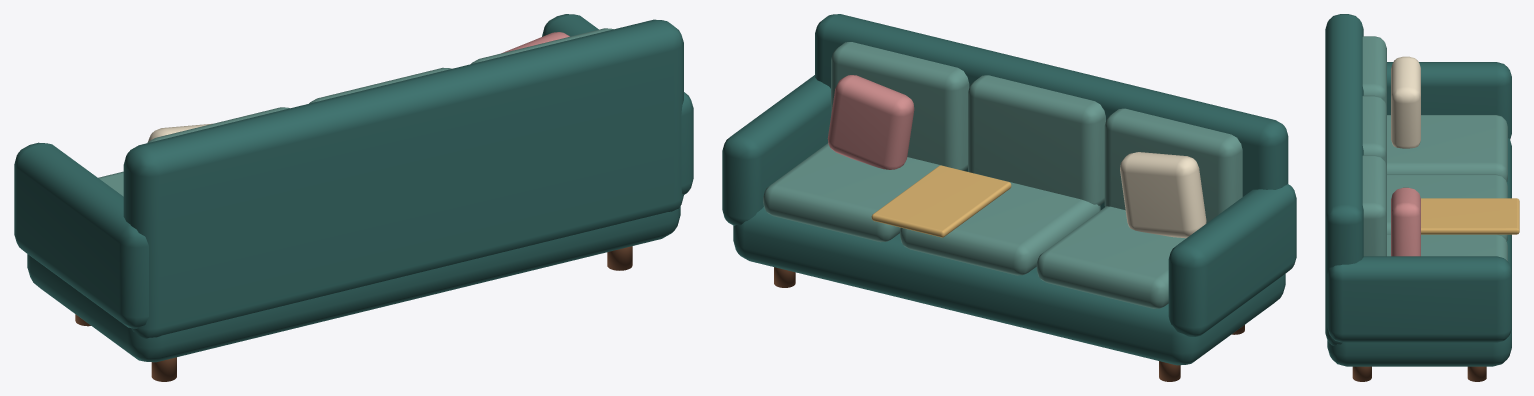
File: Sofa.fbx
The picture shows the model from 3 angles, left to right: view 1: azimuth 30°, elevation 25°; view 2: azimuth 150°, elevation 25°; view 3: azimuth 270°, elevation 25°; orthographic projection. The views are drawn at different scales.
Parts seen in each view (by area): view 1: Sofa; view 2: Sofa; view 3: Sofa.
Boxes of the visible parts, box(x1,y1,x2,y2) form: Sofa: box(14, 14, 693, 381); Sofa: box(722, 14, 1296, 381); Sofa: box(1325, 14, 1519, 381).
Bounding box in the file's own units: 3.64 × 1.49 × 1.42.
1 material, 1 textured.
